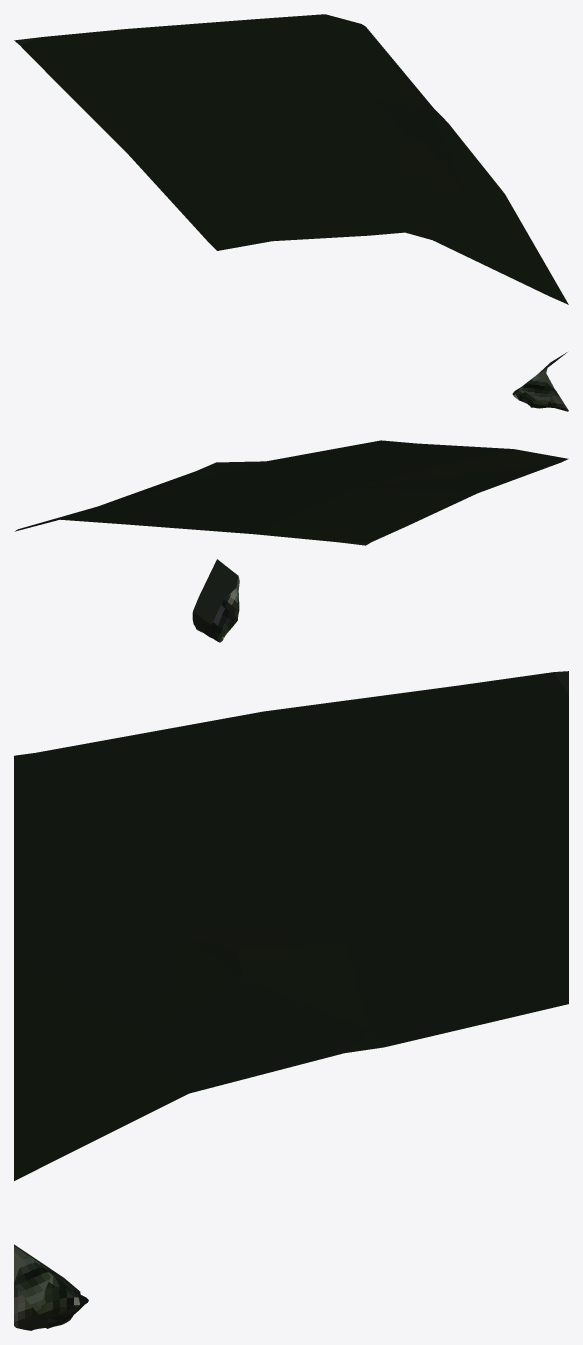
3 views of the same model, one above another, from view 1: azimuth 30°, elevation 25°; view 2: azimuth 150°, elevation 25°; view 3: azimuth 270°, elevation 25° (orthographic). The views are drawn at different scales.
Size of the model in its own units: 0.983 by 0.8329 by 0.983.
Materials: 1 (1 with a texture image).
